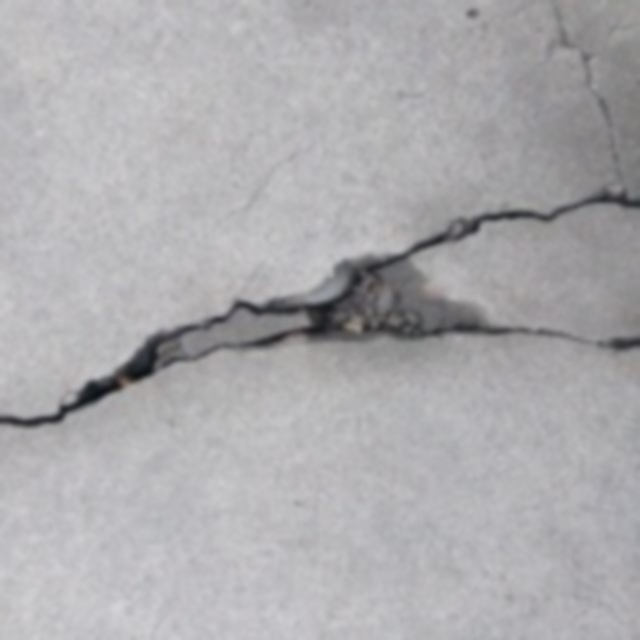SurfaceCrack: (0, 162, 640, 464)
